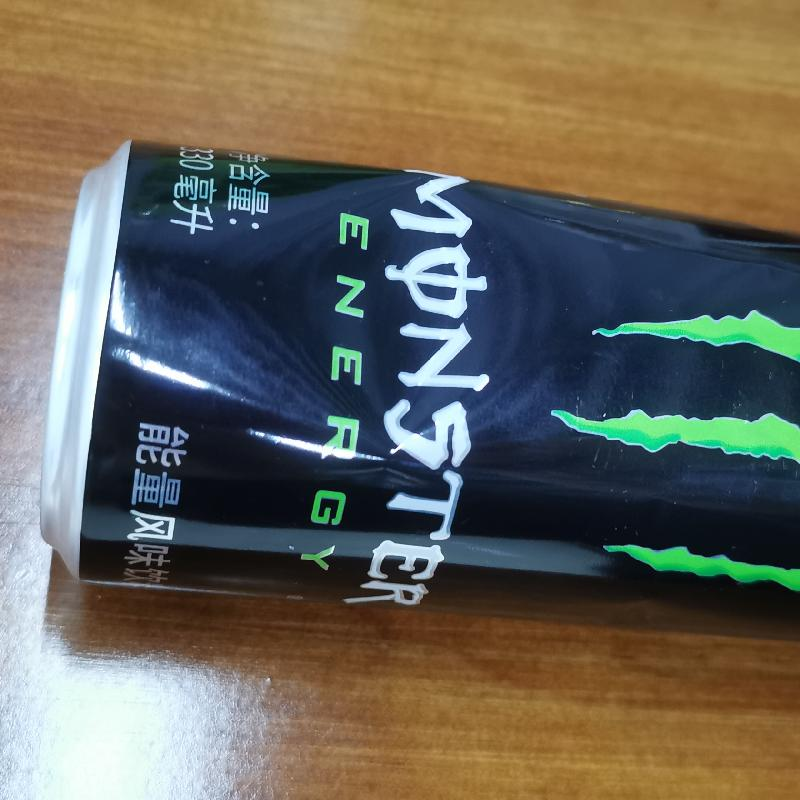cans: (31, 132, 799, 643)
